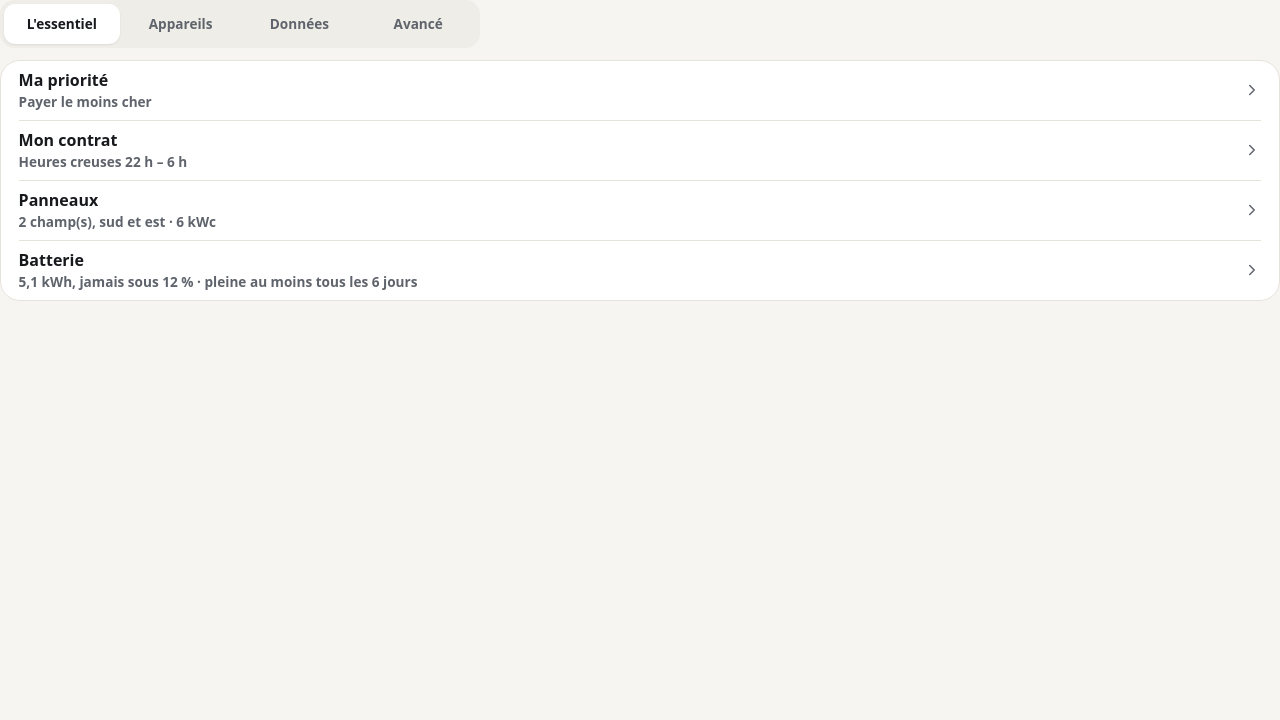
Scenario: Ma maison en onglets › résume l'essentiel en phrases et ouvre la feuille d'un réglage
expect the button "Ma priorité Payer le moins cher" is shown: met, box [19,61,1261,121]
expect the button "Mon contrat Heures creuses 22 h – 6 h" is shown: met, box [19,121,1261,181]
Click the button "Batterie".
click(51, 260)  # box [19,241,1261,300]
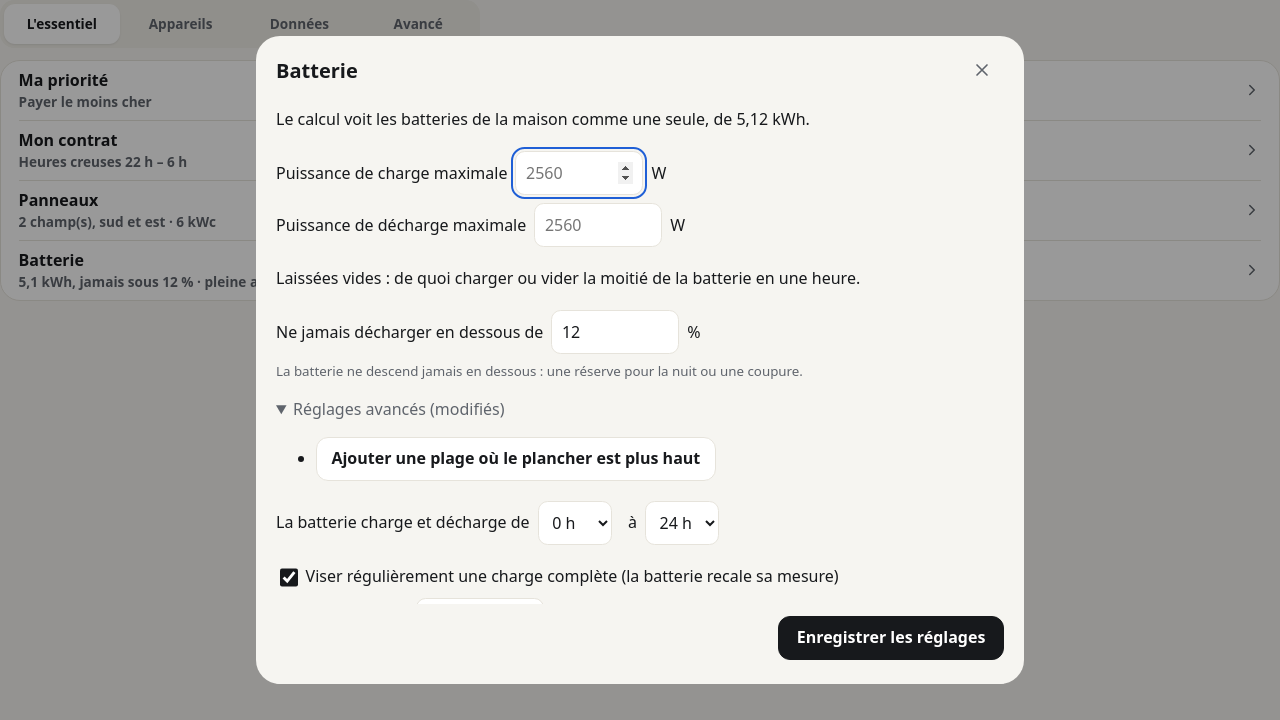
expect the number field labelled "Ne jamais décharger en dessous de %" holds "12": met, box [551,310,679,354]
Click the button named "Fermer".
click(982, 70)  # box [960,48,1004,92]
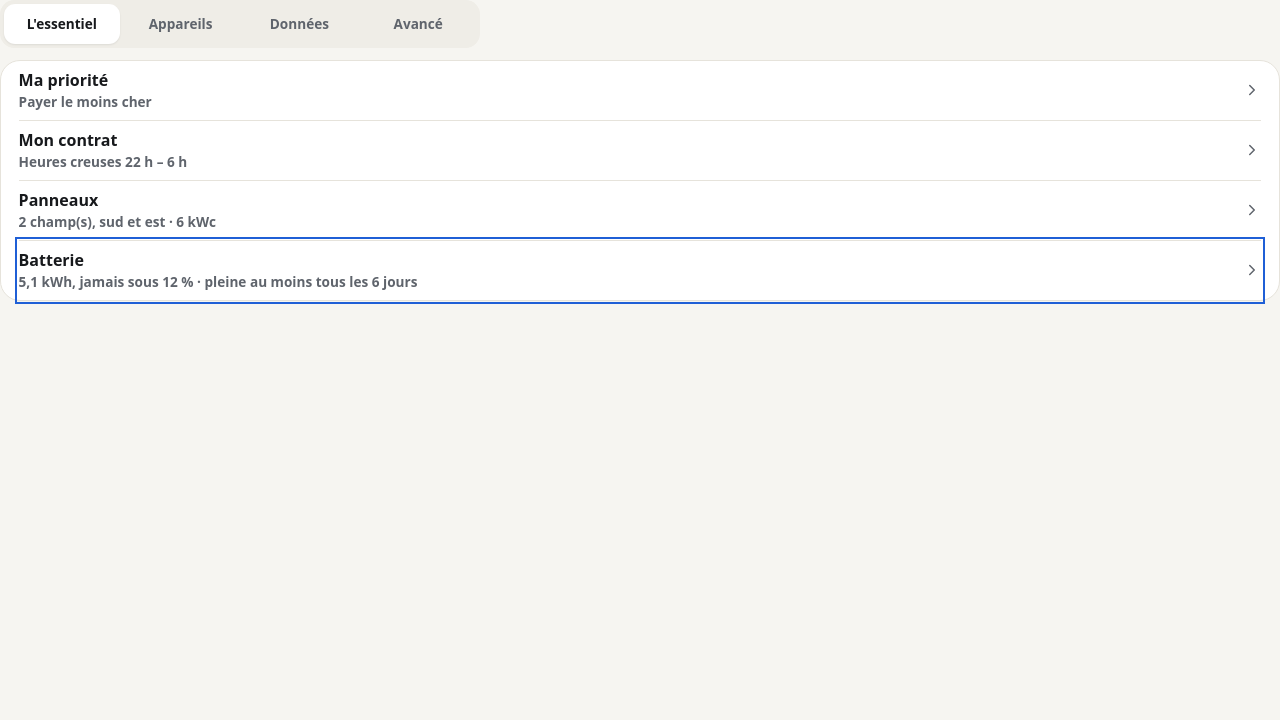
expect the dialog is gone: met
